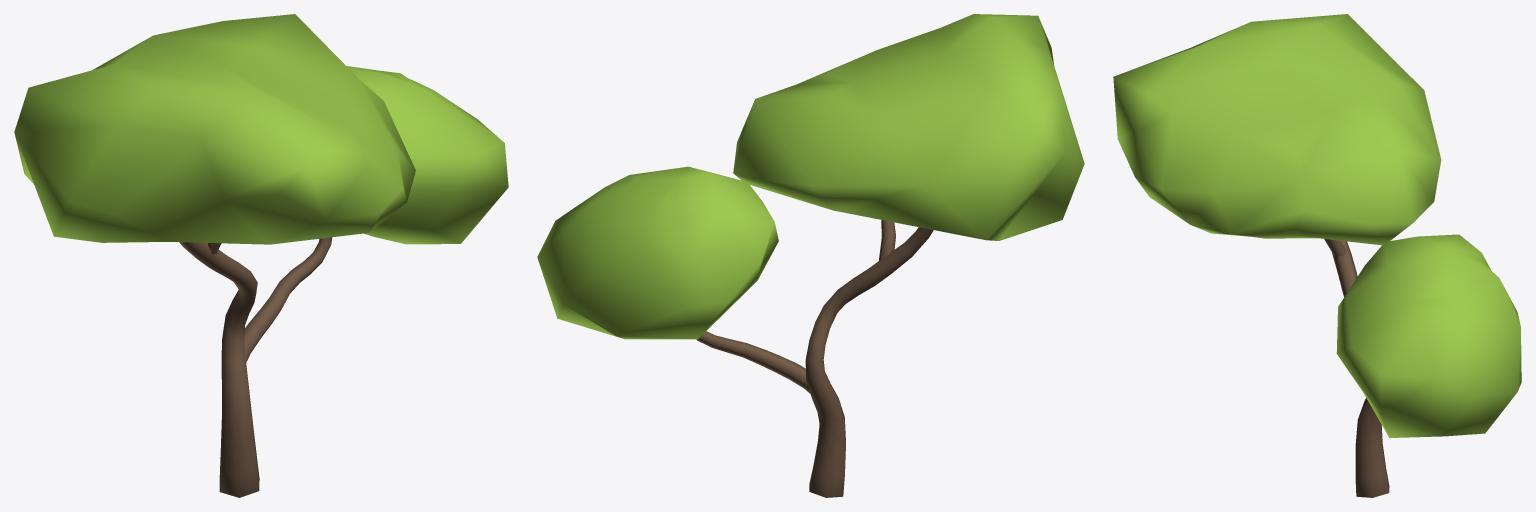
The model's file is tree_3.fbx.
3 renders of one model, left to right at view 1: azimuth 30°, elevation 25°; view 2: azimuth 150°, elevation 25°; view 3: azimuth 270°, elevation 25°, orthographic. The views are drawn at different scales.
Visible parts, largest first — view 1: Tube; view 2: Tube; view 3: Tube.
Part boxes in pixels (box(x1,y1,x2,y2)): Tube: box(14, 14, 508, 497); Tube: box(537, 14, 1084, 497); Tube: box(1113, 14, 1521, 497).
Bounding box in the file's own units: 221 × 199 × 179.
